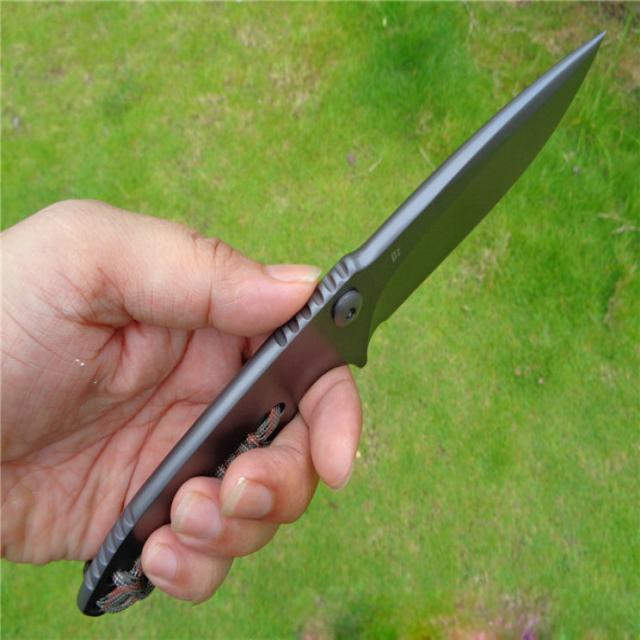knife: (76, 28, 613, 626)
